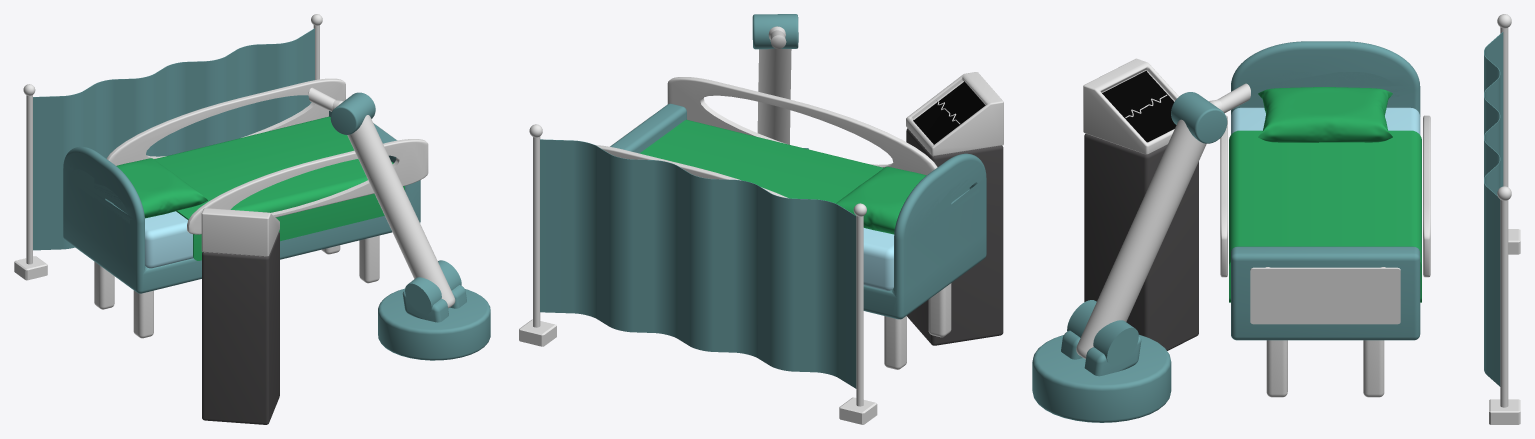
Rendered from RAWBed2.fbx.
The picture shows the model from 3 angles, left to right: view 1: azimuth 30°, elevation 25°; view 2: azimuth 150°, elevation 25°; view 3: azimuth 270°, elevation 25°; orthographic projection. The views are drawn at different scales.
Visible parts, largest first — view 1: Plane.001, Cube.003, Cube.005, Cube.001, Plane.005, Cylinder, Cylinder.002, Cube.004, Plane, Cube.002, Cube.006, Cube (+2 smaller); view 2: Plane.001, Cube.001, Cube.003, Cube.005, Plane.005, Cube.004, Cube.006, Plane, Cylinder.002, Cube.002, Cube, Cylinder.003; view 3: Cube.003, Cube.001, Cube.005, Plane.006, Cylinder, Cylinder.002, Plane, Cube.004, Plane.001, Cube.006, Cube.007, Cube.002 (+4 smaller).
Part boxes in pixels (box(x1,y1,x2,y2)): Plane.001: box(33, 28, 314, 250); Cube.003: box(154, 116, 404, 260); Cube.005: box(202, 231, 279, 424); Cube.001: box(63, 111, 420, 293); Plane.005: box(106, 78, 428, 234); Cylinder: box(378, 288, 490, 360); Cylinder.002: box(347, 115, 455, 308); Cube.004: box(201, 208, 279, 256); Plane: box(116, 158, 207, 218); Cube.002: box(94, 235, 379, 338); Cube.006: box(14, 14, 322, 280); Cube: box(145, 211, 193, 268); Plane.001: box(540, 139, 856, 388); Cube.001: box(610, 103, 986, 319); Cube.003: box(640, 119, 883, 203); Cube.005: box(906, 128, 1003, 345); Plane.005: box(595, 77, 937, 198); Cube.004: box(906, 72, 1003, 156); Cube.006: box(519, 124, 877, 424); Plane: box(836, 166, 926, 234); Cylinder.002: box(757, 48, 791, 144); Cube.002: box(884, 283, 951, 369); Cube: box(863, 228, 894, 290); Cylinder.003: box(752, 14, 798, 49); Cube.003: box(1229, 130, 1421, 302); Cube.001: box(1231, 41, 1420, 340); Cube.005: box(1084, 133, 1198, 350); Plane.006: box(1250, 267, 1400, 324); Cylinder: box(1032, 334, 1171, 422); Cylinder.002: box(1076, 119, 1206, 358); Plane: box(1258, 87, 1392, 142); Cube.004: box(1083, 58, 1178, 154); Plane.001: box(1484, 32, 1503, 386); Cube.006: box(1489, 14, 1520, 424); Cube.007: box(1061, 300, 1141, 376); Cube.002: box(1266, 340, 1384, 397).
Size of what is drawn, in the model's own units: 459 by 375 by 516.
